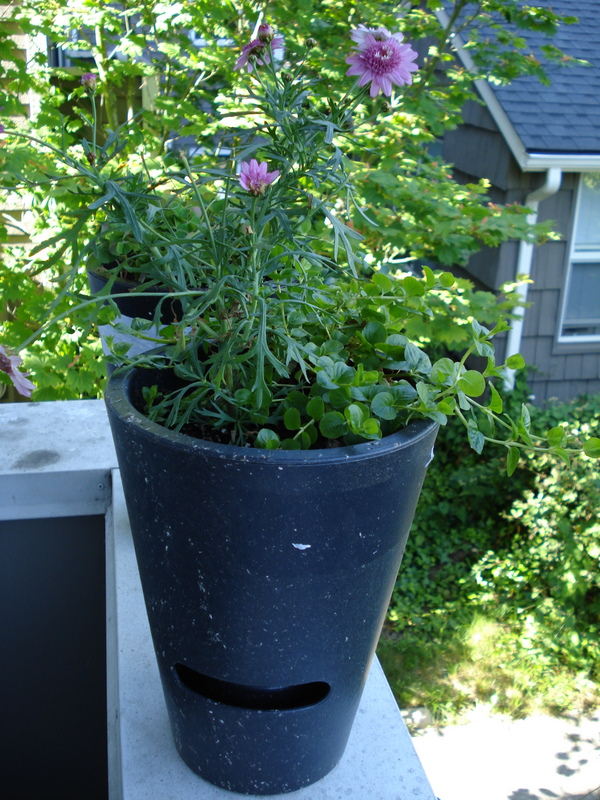potted plant: (80, 89, 451, 791)
